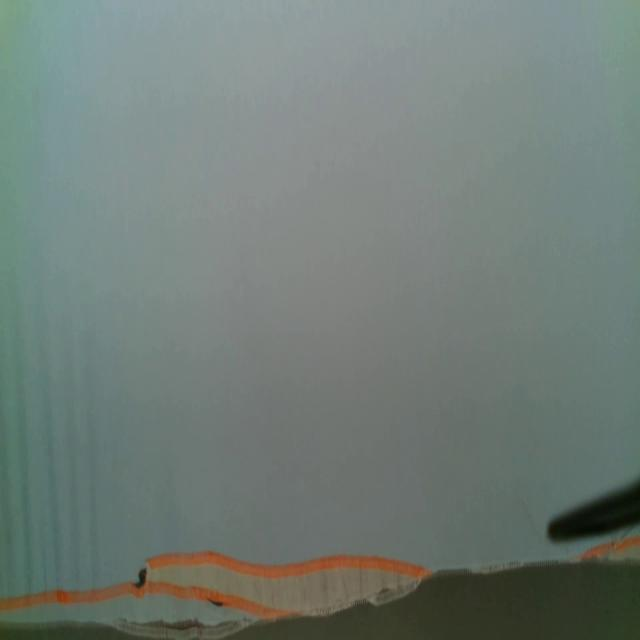hole: (134, 567, 149, 591), (208, 596, 224, 608)
